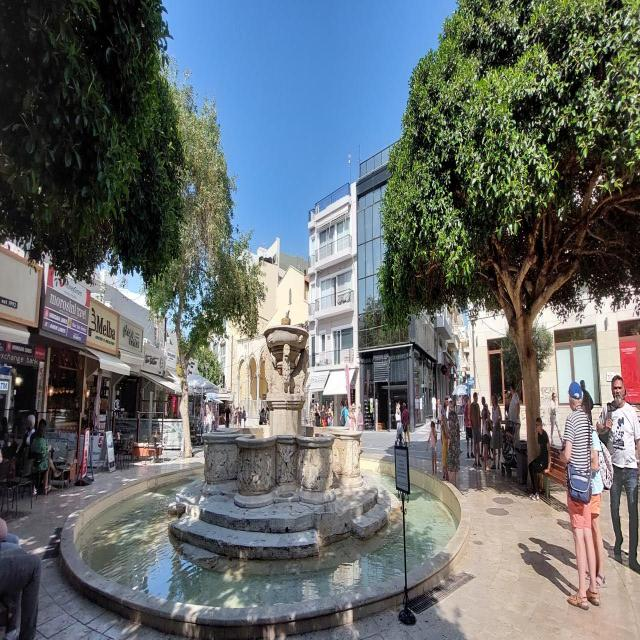Liontaria: (207, 297, 365, 487)
